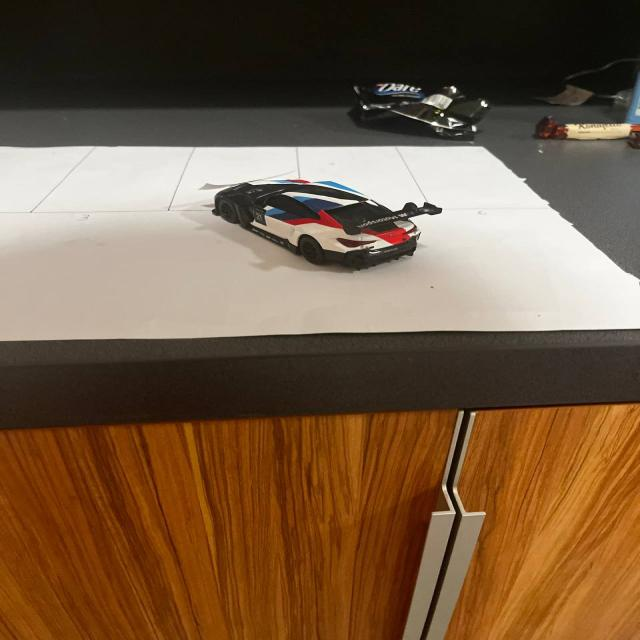cars: (190, 168, 486, 293)
